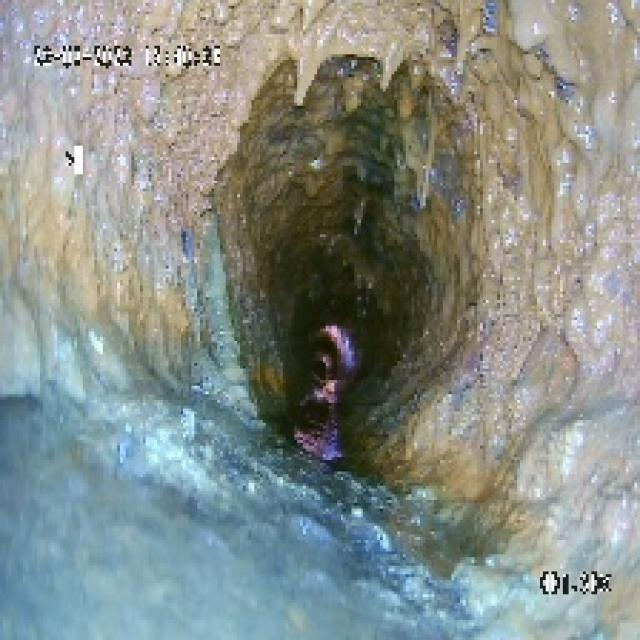encrustation: (180, 14, 597, 503)
